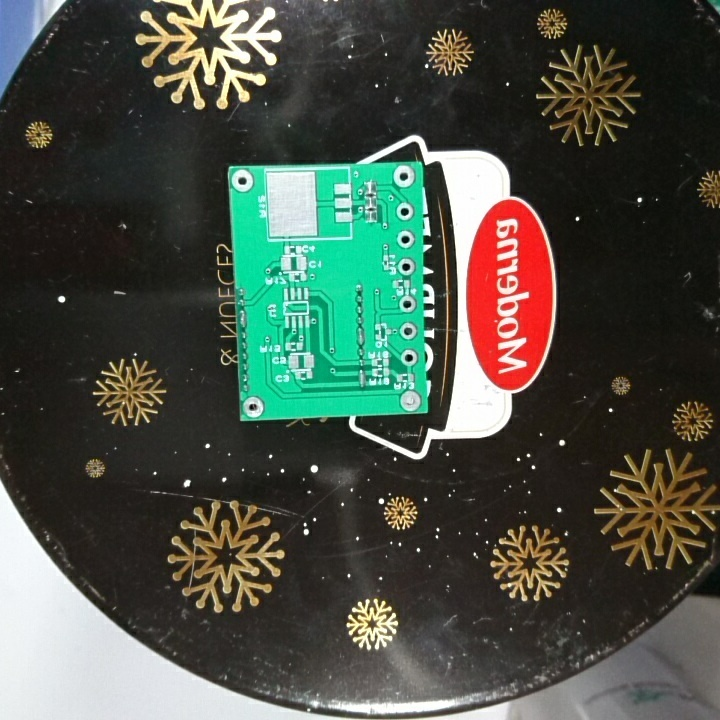F: (229, 167, 257, 194), (240, 394, 268, 420), (391, 164, 418, 190), (397, 387, 423, 412), (394, 198, 417, 224), (393, 228, 417, 252), (395, 292, 418, 315), (398, 319, 419, 343), (399, 346, 420, 368), (396, 255, 416, 278)
P: (354, 324, 367, 348), (356, 367, 368, 391), (236, 308, 248, 330)
